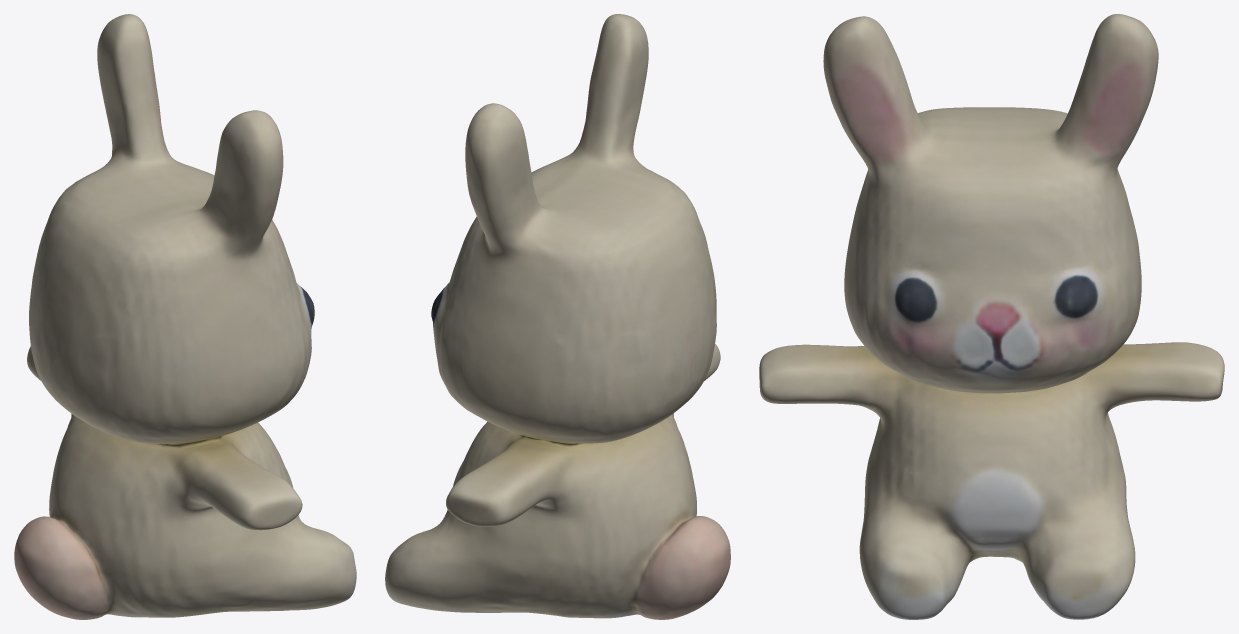
File: e300fd1ab7af_make_a_sitting_rabb.fbx
3 views of the same model, side by side, from view 1: azimuth 30°, elevation 25°; view 2: azimuth 150°, elevation 25°; view 3: azimuth 270°, elevation 25° (orthographic). The views are drawn at different scales.
Visible parts, largest first — view 1: high_poly; view 2: high_poly; view 3: high_poly.
Boxes of the visible parts, left/top/right/bottom form: high_poly: left=14, top=14, right=356, bottom=619; high_poly: left=385, top=14, right=730, bottom=619; high_poly: left=759, top=14, right=1224, bottom=619.
Bounding box in the file's own units: 56.24 × 100 × 76.37.
